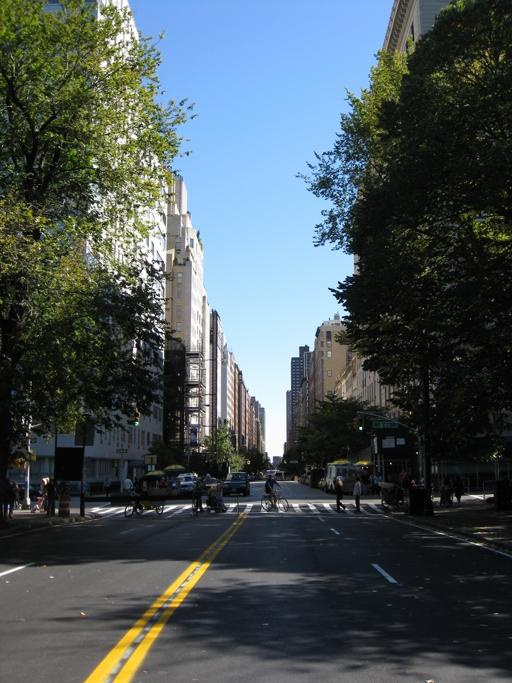non-vehicle: (123, 477, 166, 517), (261, 488, 288, 511), (190, 472, 201, 511), (381, 488, 399, 509)
